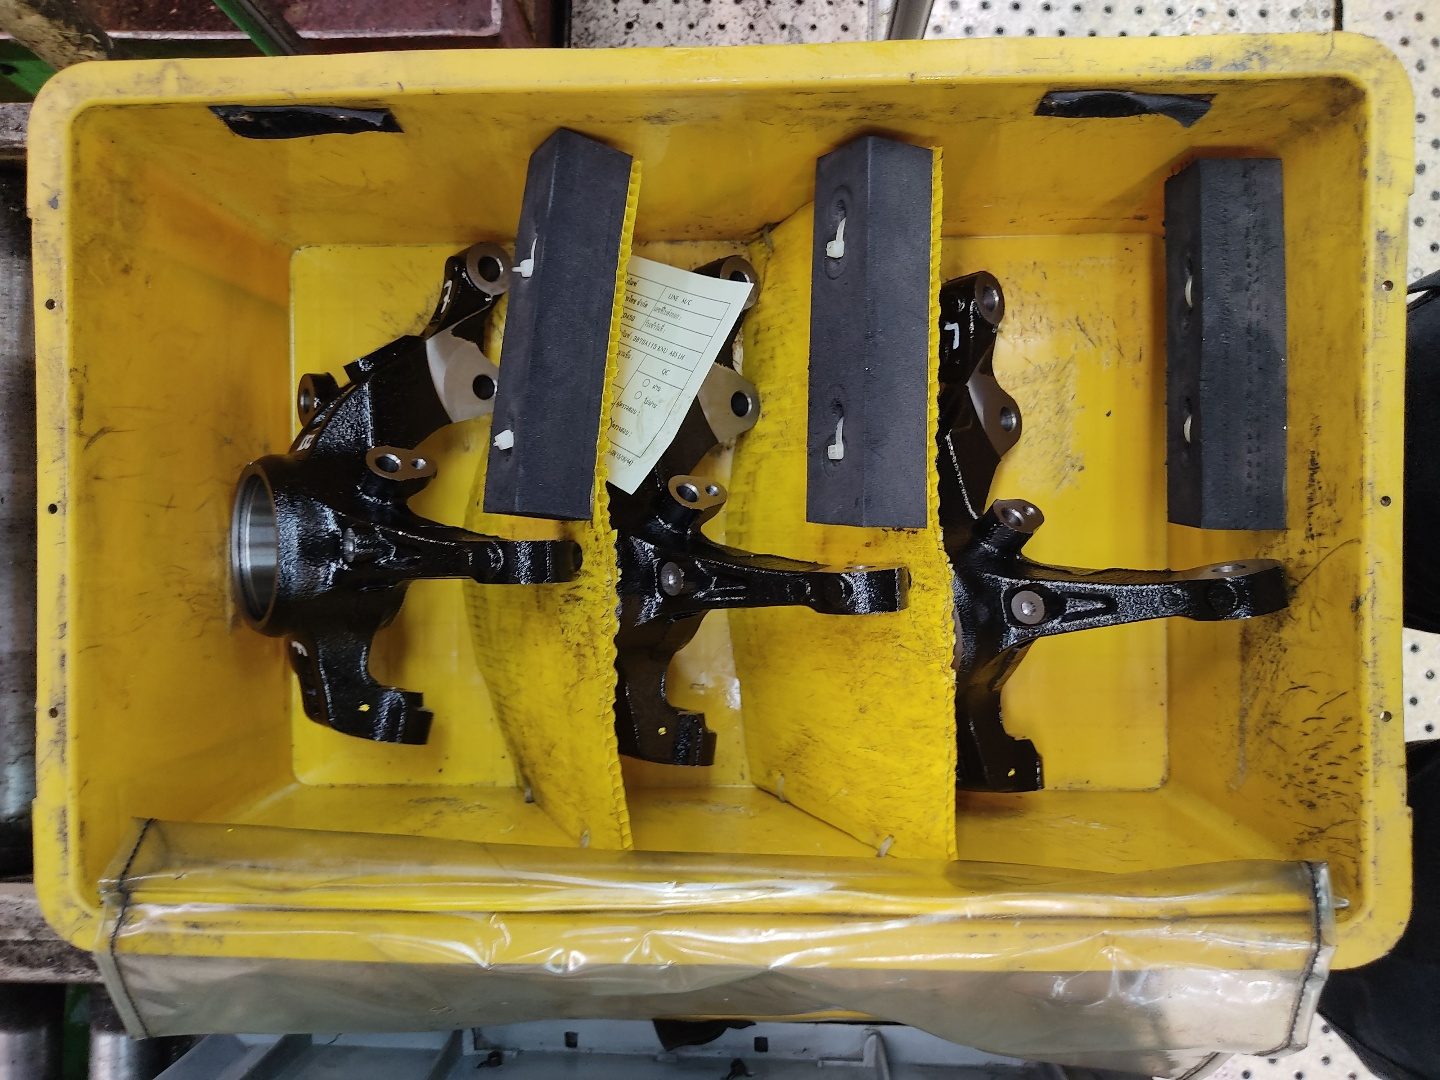abs-lh: (222, 228, 590, 759), (935, 263, 1297, 798), (607, 245, 921, 774)
